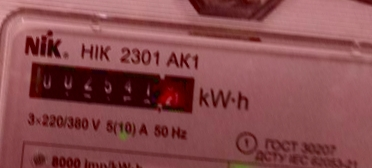0: (41, 66, 56, 88), (62, 66, 76, 88)
1: (142, 72, 156, 96)
2: (82, 67, 98, 90)
4: (123, 70, 136, 92)
5: (102, 69, 117, 93)
6: (164, 91, 176, 104)
screen: (16, 47, 210, 121)
